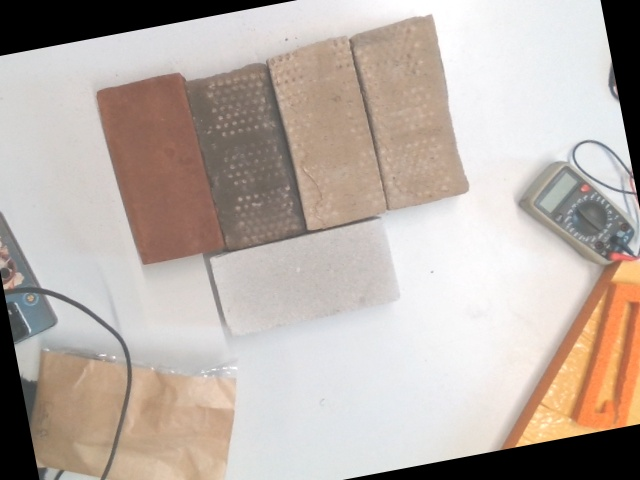brick: (349, 16, 473, 211), (265, 39, 387, 232), (98, 75, 218, 265), (210, 218, 400, 338), (189, 63, 301, 249)
